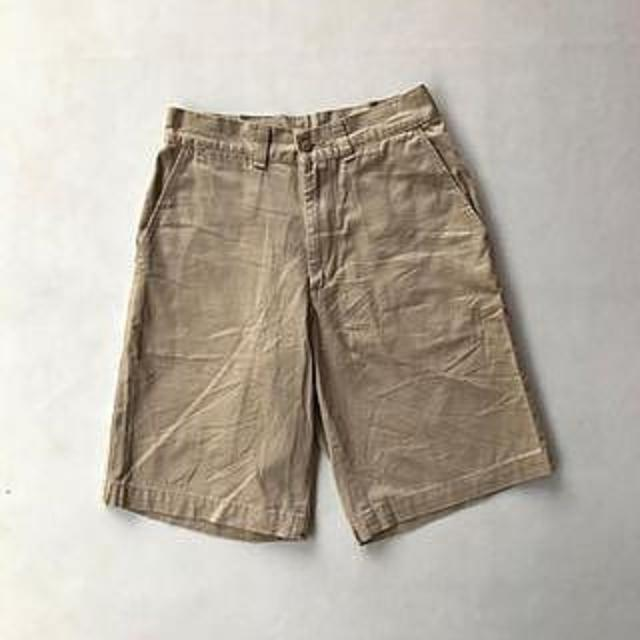SHORT: (85, 78, 586, 554)
